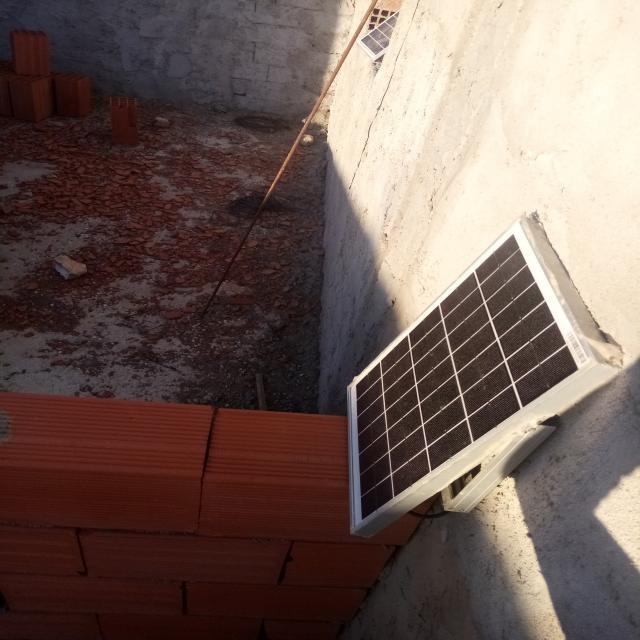no faulty: (348, 223, 598, 533)
